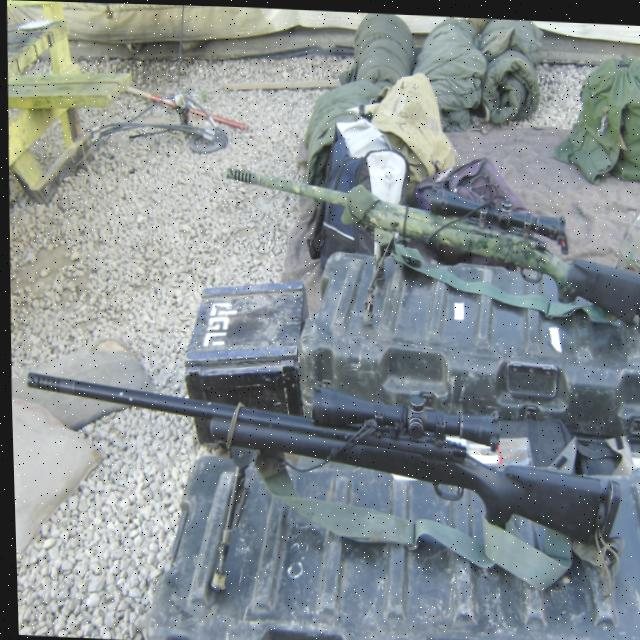firearm: (21, 371, 618, 547), (220, 161, 640, 324)
